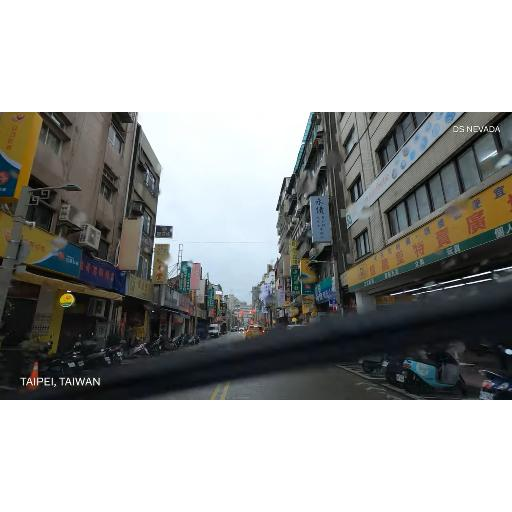Car: (244, 325, 270, 345), (207, 322, 221, 338), (238, 324, 246, 332)
